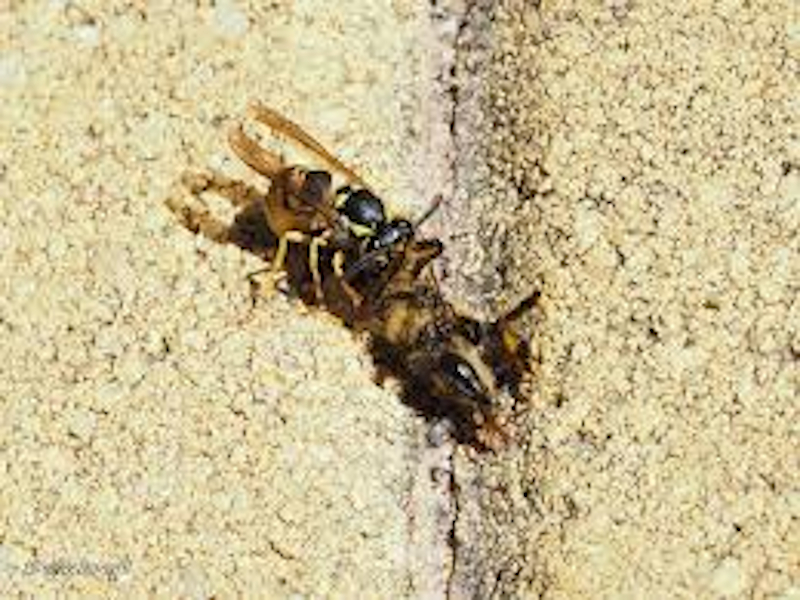chax: (198, 95, 450, 312)
